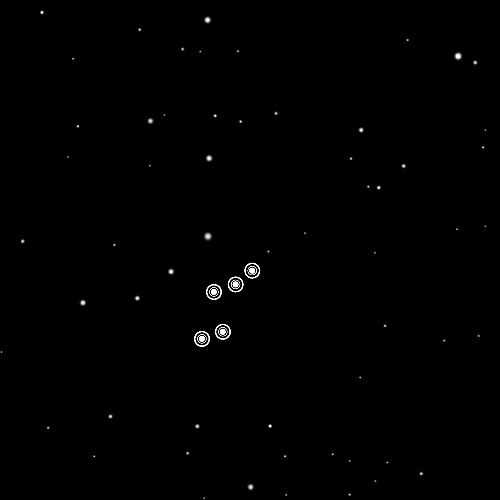lyra: (181, 253, 264, 356)
